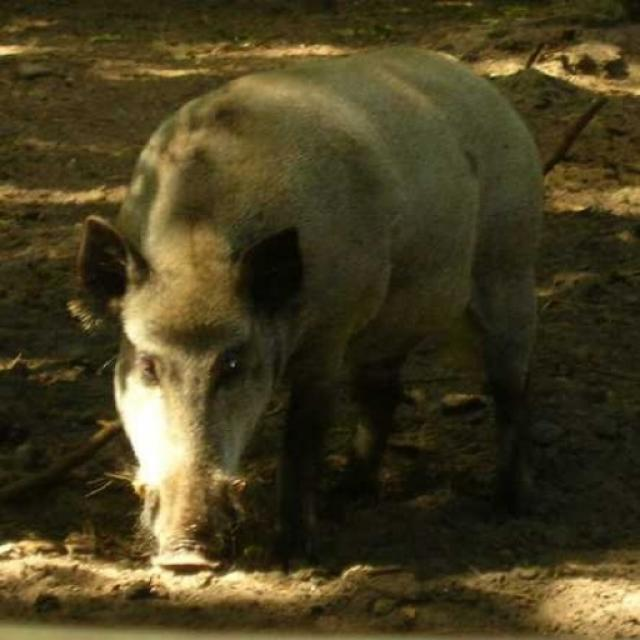pig: (84, 18, 639, 511)
